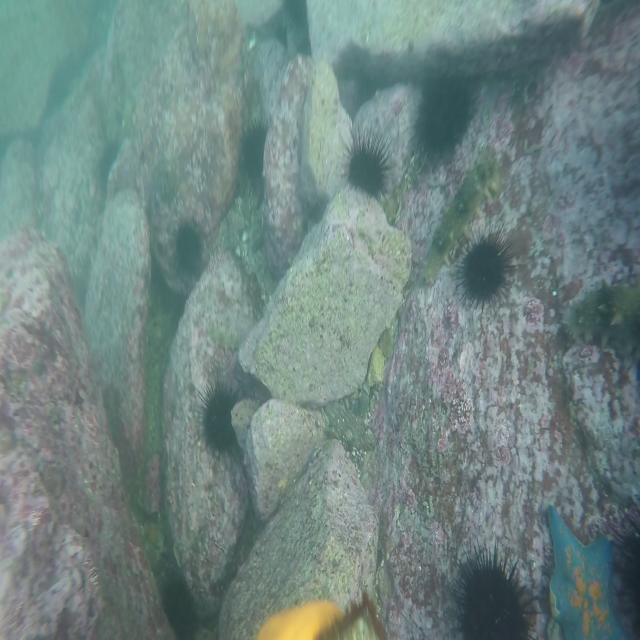echinus: (452, 544, 537, 640), (413, 66, 478, 169), (455, 223, 510, 308), (195, 383, 242, 457), (344, 123, 391, 196), (156, 576, 197, 640), (168, 222, 210, 278), (236, 119, 272, 174)
holothurian: (416, 148, 499, 292), (557, 280, 640, 352)
starfish: (544, 502, 626, 640)
